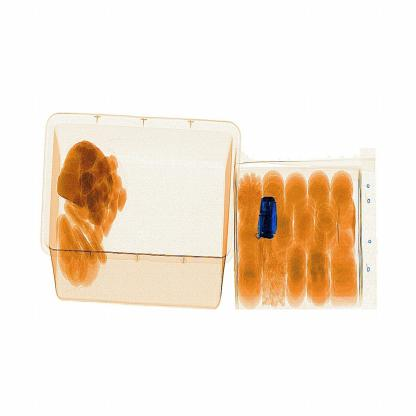scissors: (250, 190, 280, 244)
